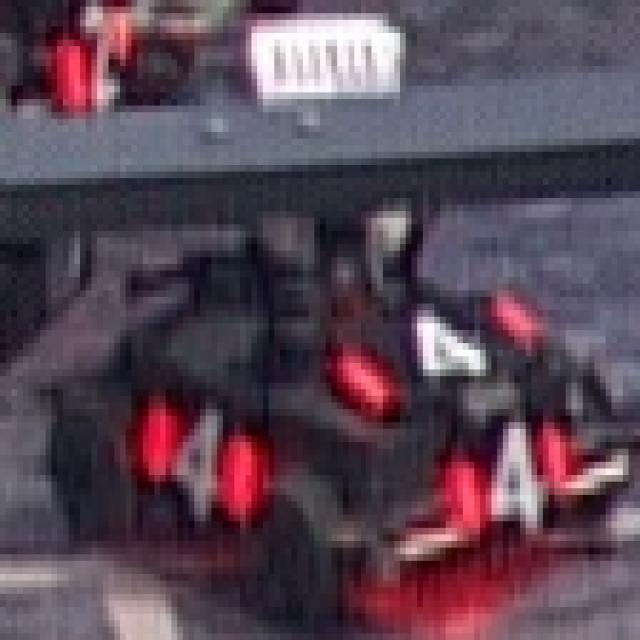R4: (349, 277, 537, 409), (143, 389, 263, 522), (457, 416, 577, 541)
